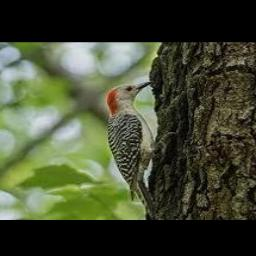Woodpecker: (107, 80, 179, 214)
